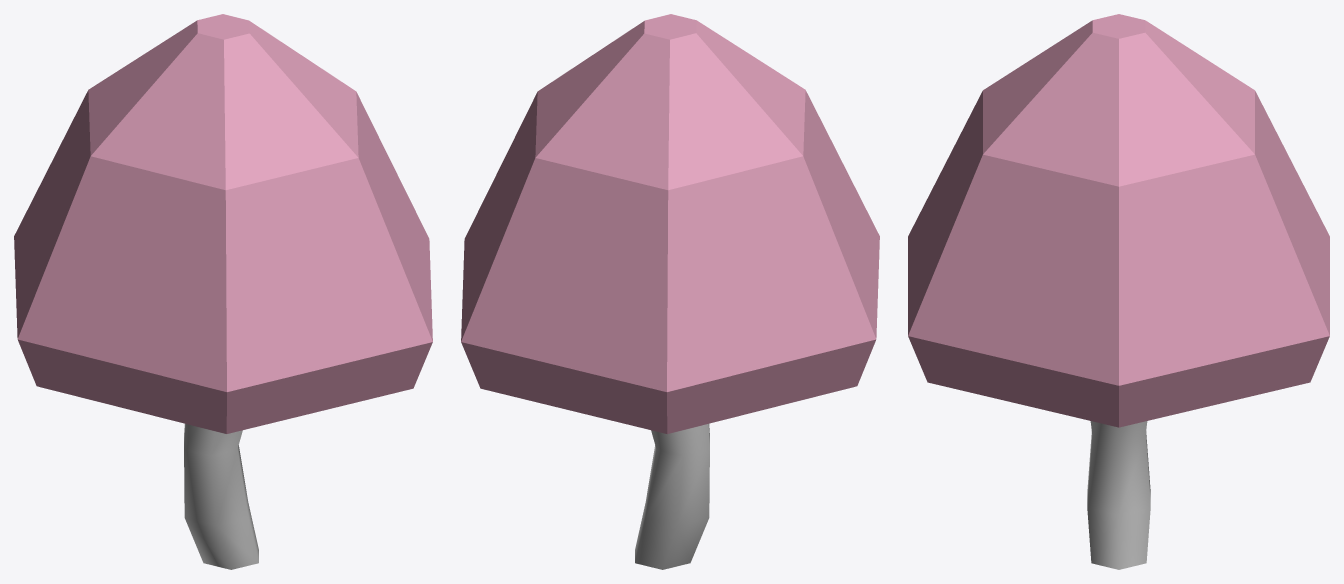
Rendered from Hongo_2.fbx.
The picture shows the model from 3 angles, left to right: view 1: azimuth 30°, elevation 25°; view 2: azimuth 150°, elevation 25°; view 3: azimuth 270°, elevation 25°; orthographic projection.
Parts seen in each view (by area): view 1: Hongo_2; view 2: Hongo_2; view 3: Hongo_2.
Boxes of the visible parts, box(x1,y1,x2,y2) form: Hongo_2: box(14, 14, 432, 569); Hongo_2: box(461, 14, 879, 569); Hongo_2: box(908, 14, 1329, 569).
Size of the model in its own units: 30.57 by 37.69 by 27.38.
